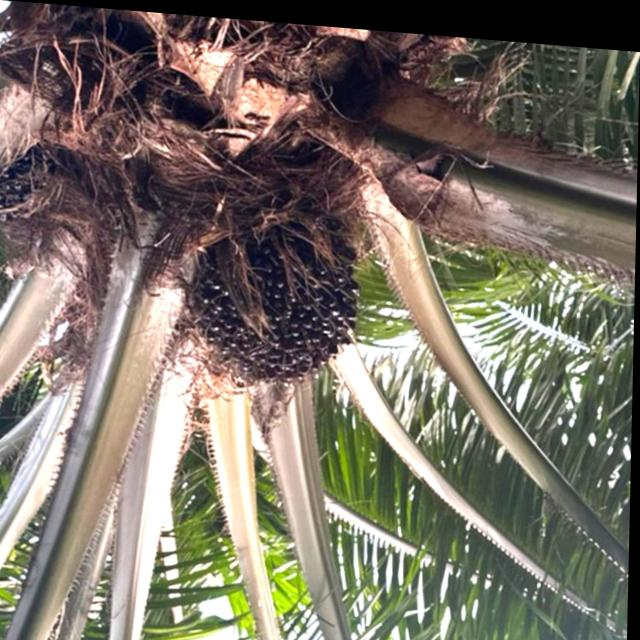almost: (187, 211, 362, 406), (0, 141, 80, 232)
